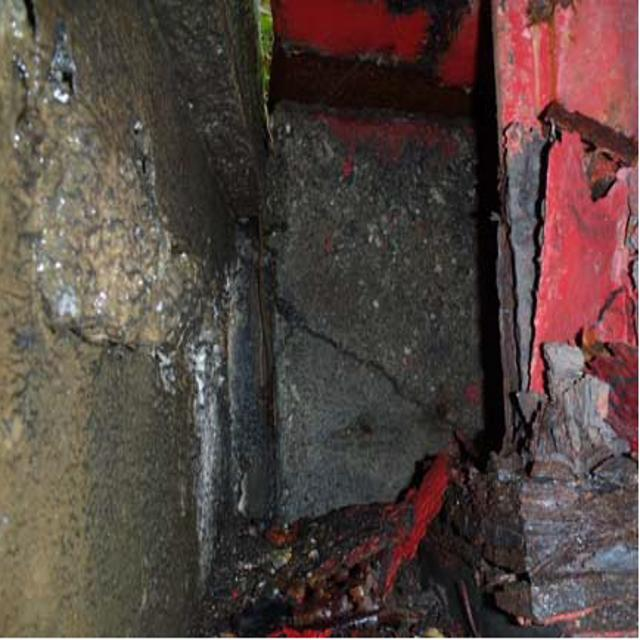corrosion: (255, 26, 596, 481)
